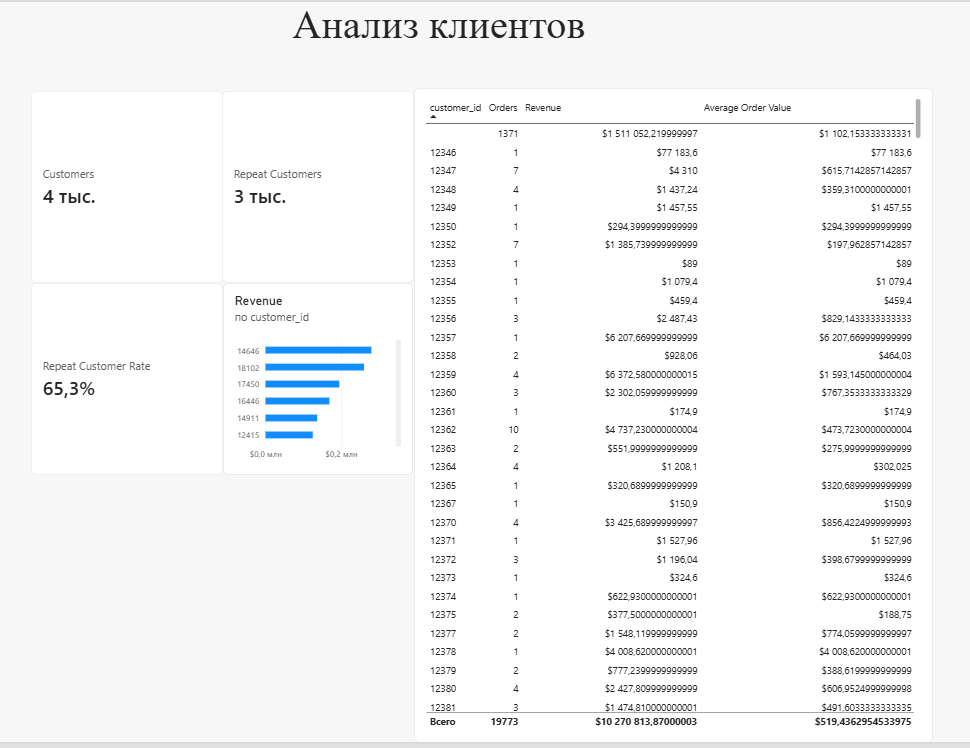

The page's visual inventory and layout, read from the dashboard file:
{"tool":"powerbi","page":{"name":"Анализ клиентов","canvas":[1920,1080],"ordinal":2},"visuals":[{"type":"cardVisual","fields":{"Data":["public online_retail_sales.Customers"]},"box":[365.3,129.7,280,280],"z":0},{"type":"cardVisual","fields":{"Data":["public online_retail_sales.Repeat Customers"]},"box":[644,129.7,280,280],"z":1000},{"type":"cardVisual","fields":{"Data":["public online_retail_sales.Repeat Customer Rate"]},"box":[365.4,409.6,280,280],"z":2000},{"type":"clusteredBarChart","fields":{"Category":["public online_retail_sales.customer_id"],"Y":["public online_retail_sales.Revenue"]},"box":[645.4,409.6,277,280],"z":2001},{"type":"tableEx","fields":{"Values":["public online_retail_sales.customer_id","public online_retail_sales.Orders","public online_retail_sales.Revenue","public online_retail_sales.Average Order Value"]},"box":[923.9,125.2,757.4,954.8],"z":2002},{"type":"textbox","box":[0,0,1920,125.2],"z":2003}]}

Visuals, with their boxes on the page's 1920x1080 design canvas (x1, y1, x2, y2). These are canvas units, not pixel positions in the 970x748 screenshot, which may show the page scaled, cropped or inside an application window:
cardVisual - public online_retail_sales.Customers: <bbox>365, 130, 645, 410</bbox>
cardVisual - public online_retail_sales.Repeat Customers: <bbox>644, 130, 924, 410</bbox>
cardVisual - public online_retail_sales.Repeat Customer Rate: <bbox>365, 410, 645, 690</bbox>
clusteredBarChart - public online_retail_sales.customer_id x public online_retail_sales.Revenue: <bbox>645, 410, 922, 690</bbox>
tableEx - public online_retail_sales.customer_id x public online_retail_sales.Orders: <bbox>924, 125, 1681, 1080</bbox>
textbox: <bbox>0, 0, 1920, 125</bbox>
